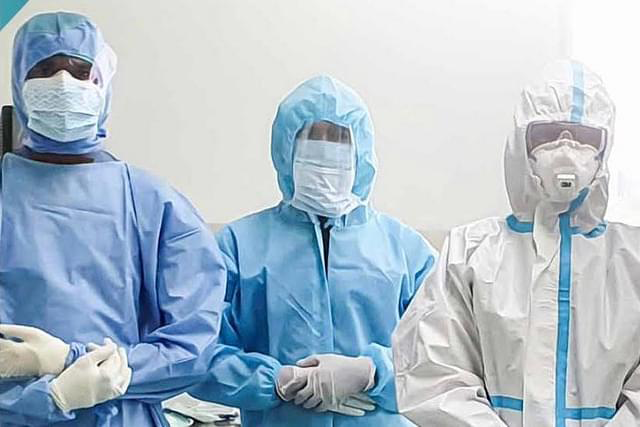Coverall: (1, 12, 222, 427), (401, 64, 640, 427), (192, 68, 433, 427)
Gloves: (48, 341, 132, 410), (298, 354, 376, 414), (1, 323, 74, 379)
with_mask: (281, 137, 364, 216), (21, 67, 107, 142), (531, 127, 599, 208)
